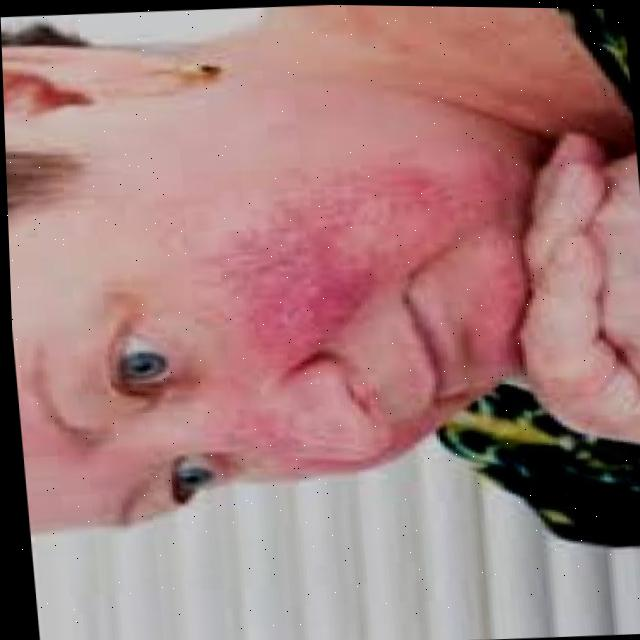Rosacea: (220, 172, 392, 368), (232, 391, 283, 454)
